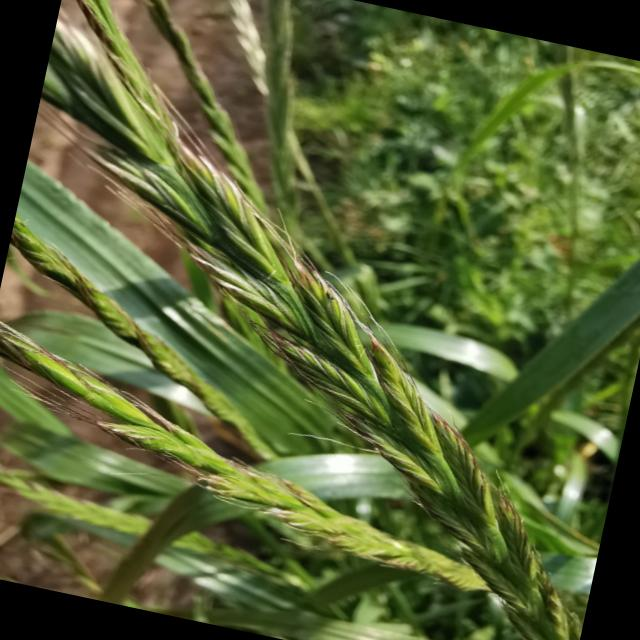Lolium: (0, 14, 640, 640), (0, 322, 525, 596), (0, 220, 317, 456), (84, 0, 313, 213)
